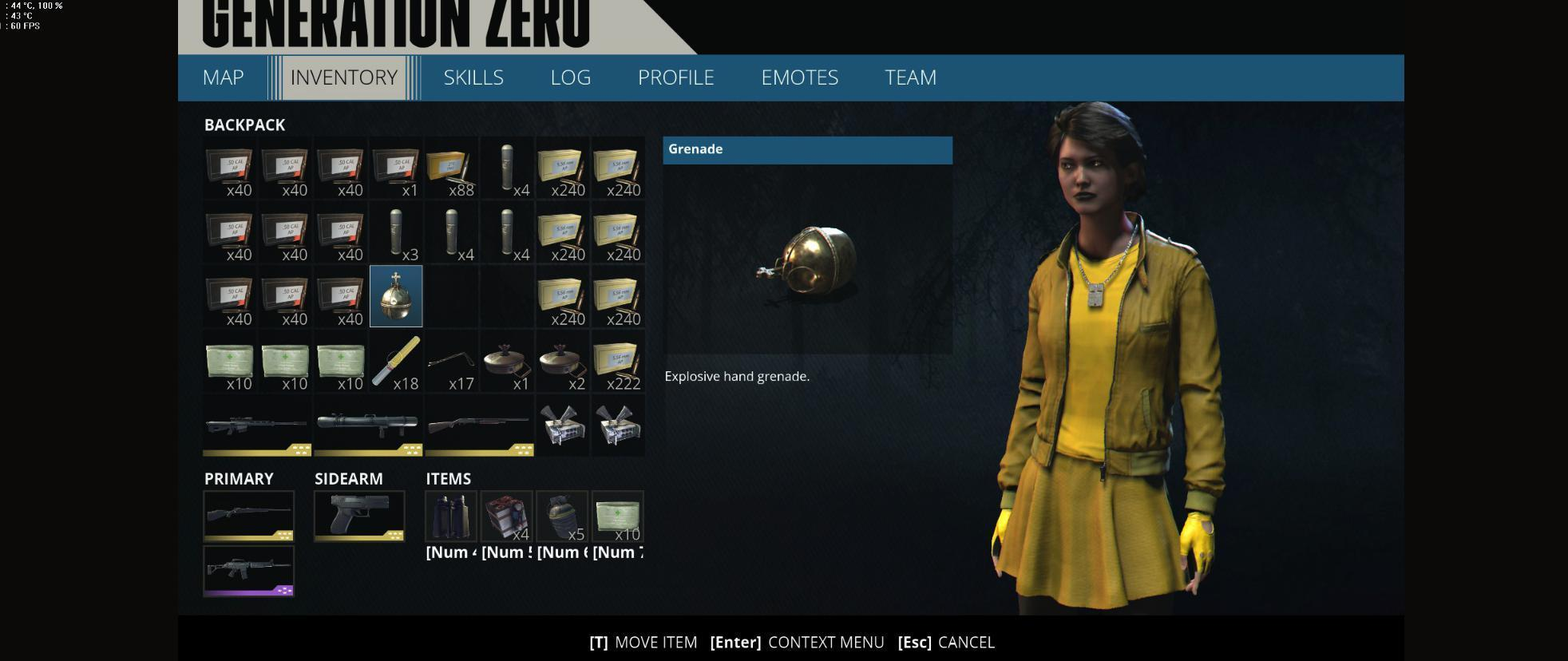Grenade: (758, 225, 857, 299), (332, 494, 389, 533), (318, 416, 418, 436), (428, 418, 530, 435), (486, 496, 528, 537), (207, 418, 307, 435), (485, 344, 533, 378), (540, 344, 587, 378), (209, 560, 291, 578), (548, 495, 577, 539), (383, 272, 410, 319), (206, 509, 291, 521), (445, 209, 458, 255), (501, 208, 513, 254), (502, 145, 514, 190), (390, 208, 402, 253)
